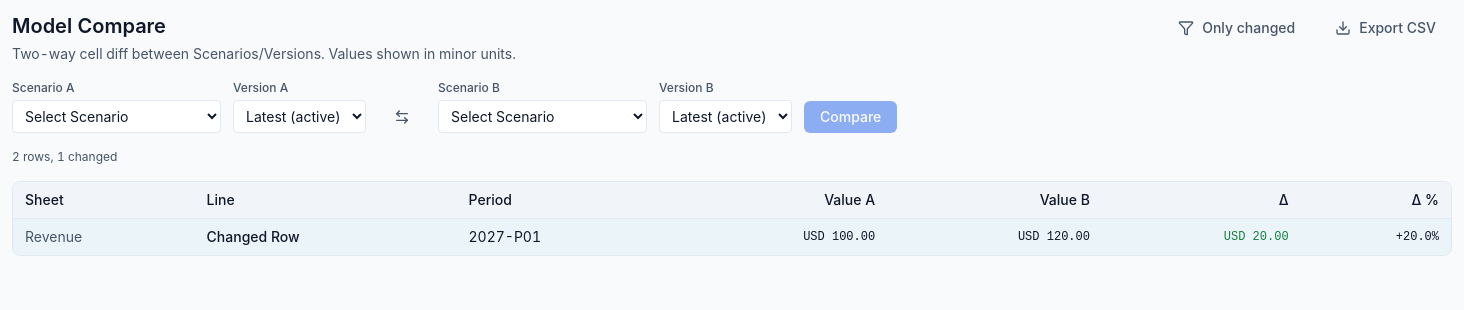
Test case: S-051 Model Compare page (F-022 · M4-3 · SCREENS-SPEC S-051) › toggles only-changed filter
Expected: the text "Changed Row" is shown, [195,218,456,255]
Expected: the text "Unchanged Row" is not shown
// Toggle filter
Click the button "Only changed": (1237, 28) [1162,12,1311,44]
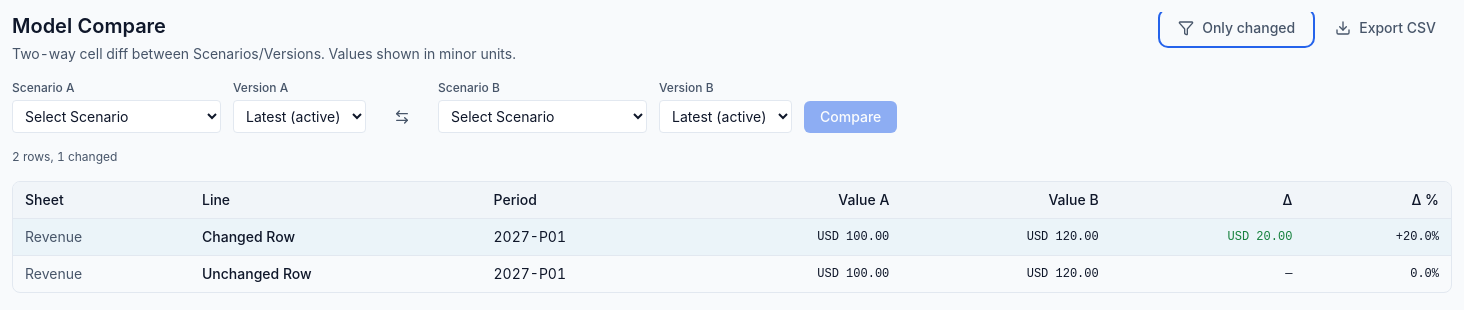
Expected: the text "Unchanged Row" is shown, [190,256,482,292]
